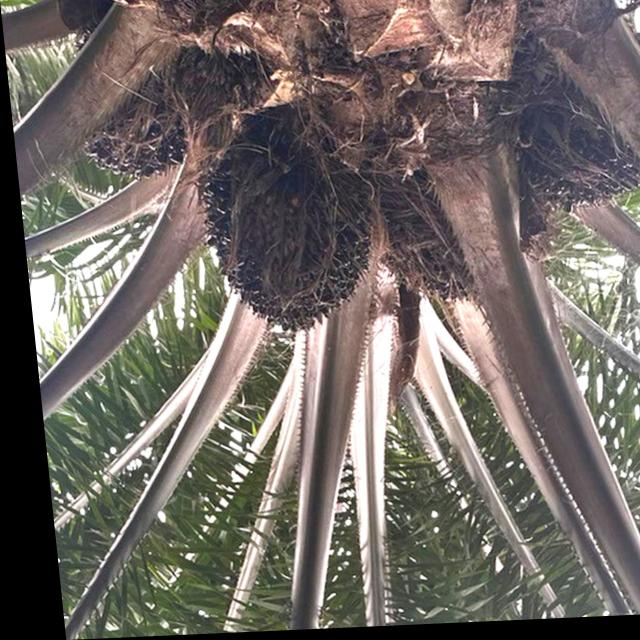unripe: (186, 122, 386, 346), (512, 81, 640, 220), (65, 78, 200, 188)
